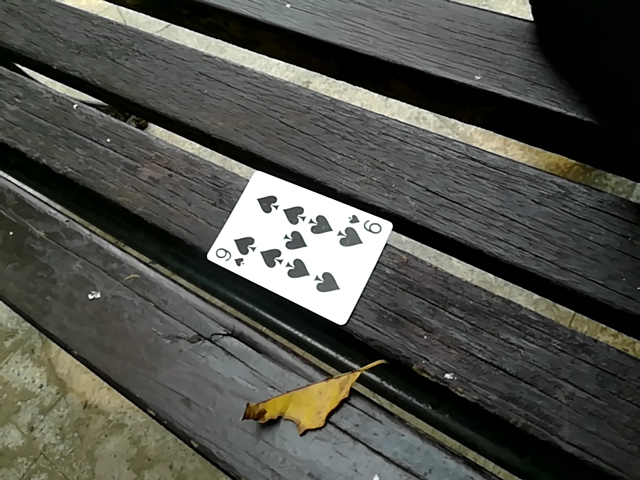ht 9: (195, 168, 383, 325)
